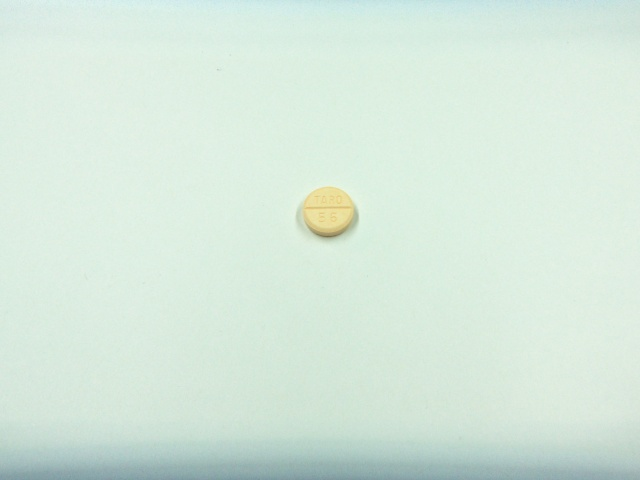5: (316, 210, 328, 224)
6: (328, 211, 339, 223)
A: (320, 193, 328, 206)
O: (335, 194, 345, 205)
R: (327, 192, 335, 207)
T: (311, 194, 321, 206)
|: (300, 204, 355, 211)
